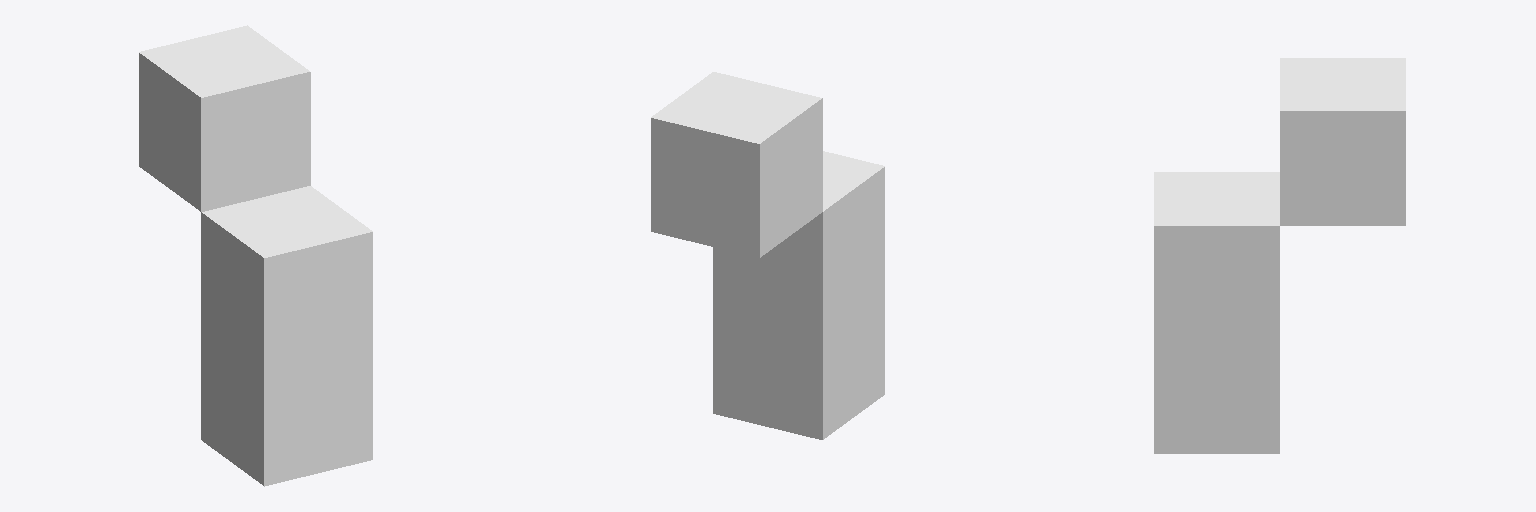
The model's file is HippogriffTalon.obj.
The picture shows the model from 3 angles: view 1: azimuth 30°, elevation 25°; view 2: azimuth 150°, elevation 25°; view 3: azimuth 270°, elevation 25°; orthographic projection.
Parts seen in each view (by area): view 1: object 1; view 2: object 1; view 3: object 1.
Part boxes in pixels (x1,y1,x2,y2): object 1: (139,25,372,486); object 1: (651,72,884,439); object 1: (1154,58,1405,453).
Bounding box in the file's own units: 0.1 × 0.3 × 0.2.